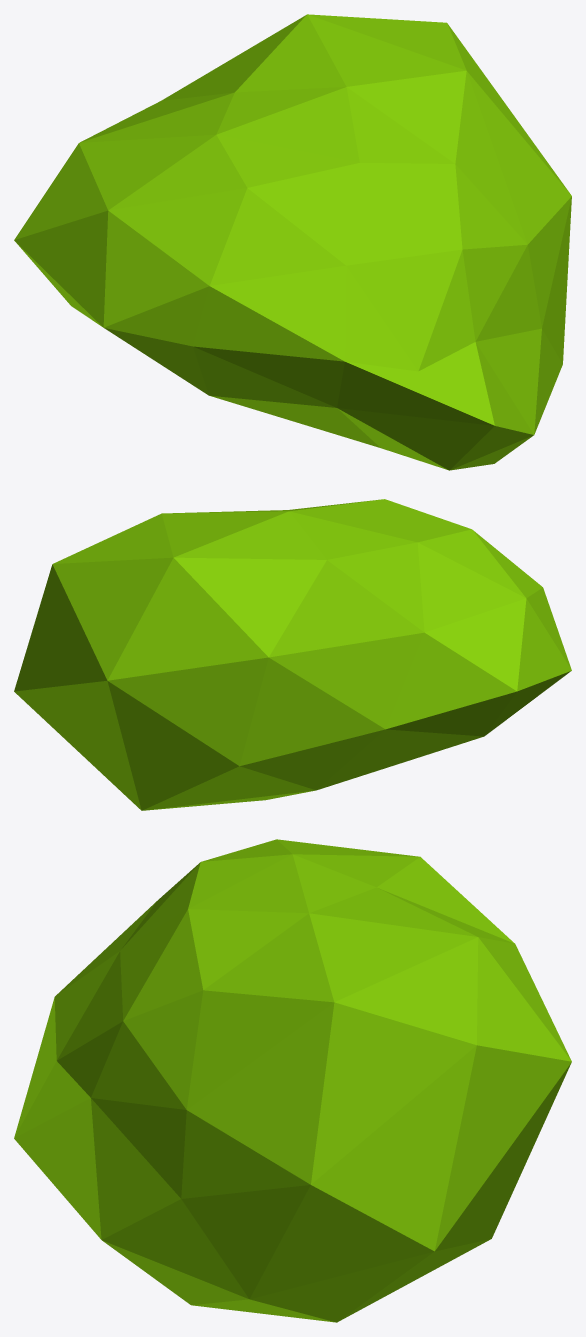
The model's file is lp_tree5_Cube_016.obj.
The picture shows the model from 3 angles, top to bottom: view 1: azimuth 30°, elevation 25°; view 2: azimuth 150°, elevation 25°; view 3: azimuth 270°, elevation 25°; orthographic projection. The views are drawn at different scales.
Visible parts, largest first — view 1: lp_tree5_Cube_016; view 2: lp_tree5_Cube_016; view 3: lp_tree5_Cube_016.
Part boxes in pixels (x1,y1,x2,y2): lp_tree5_Cube_016: (14, 14, 571, 470); lp_tree5_Cube_016: (14, 499, 571, 810); lp_tree5_Cube_016: (14, 839, 571, 1322).
Size of the model in its own units: 4.67 by 2.89 by 4.18.
